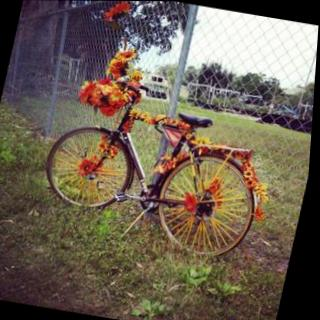Bike: (31, 76, 285, 264)
